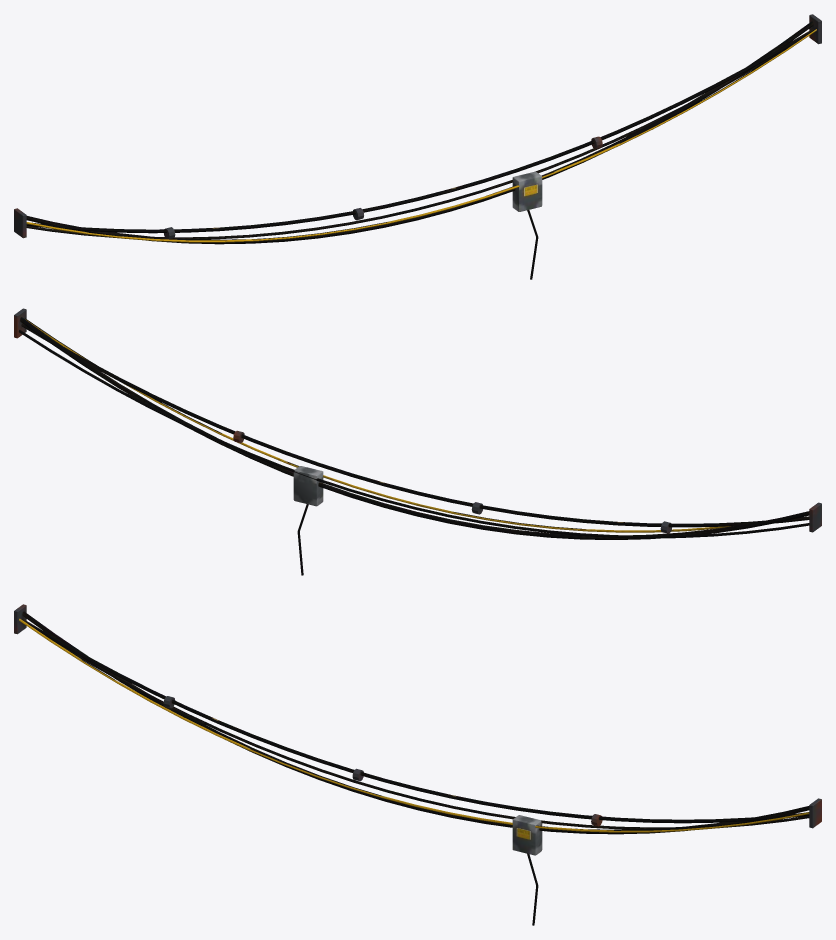
The model's file is cable_bundle.glb.
3 renders of one model, top to bottom at view 1: azimuth 30°, elevation 25°; view 2: azimuth 150°, elevation 25°; view 3: azimuth 330°, elevation 25°, orthographic.
Parts seen in each view (by area): view 1: cable_bundle; view 2: cable_bundle; view 3: cable_bundle.
Part boxes in pixels (x1,y1,x2,y2): cable_bundle: (14, 14, 821, 279); cable_bundle: (14, 308, 821, 575); cable_bundle: (14, 604, 821, 925).
Bounding box in the file's own units: 8.04 × 1.86 × 0.16.
1 material, 1 textured.
